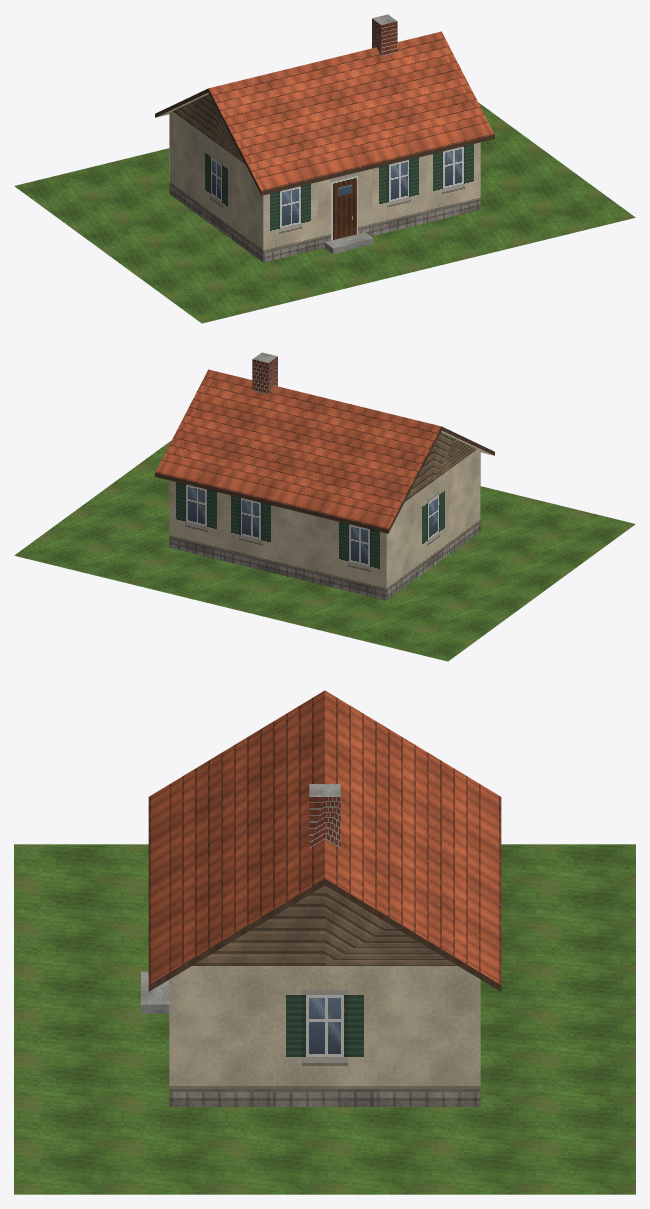
Rendered from house.obj.
3 views of the same model, one above another, from view 1: azimuth 30°, elevation 25°; view 2: azimuth 150°, elevation 25°; view 3: azimuth 270°, elevation 25° (orthographic). The views are drawn at different scales.
Bounding box in the file's own units: 16 × 5.9 × 12.
15 materials, 15 textured.
